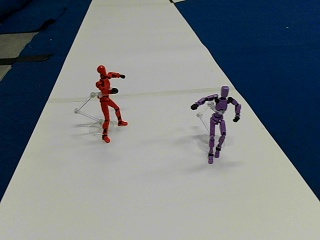pedestrian: (190, 86, 241, 159), (95, 64, 126, 140)
